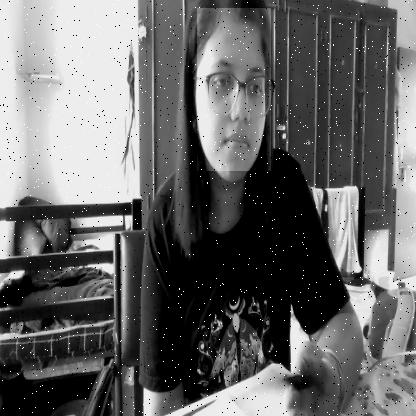Normal: (197, 8, 271, 171)
